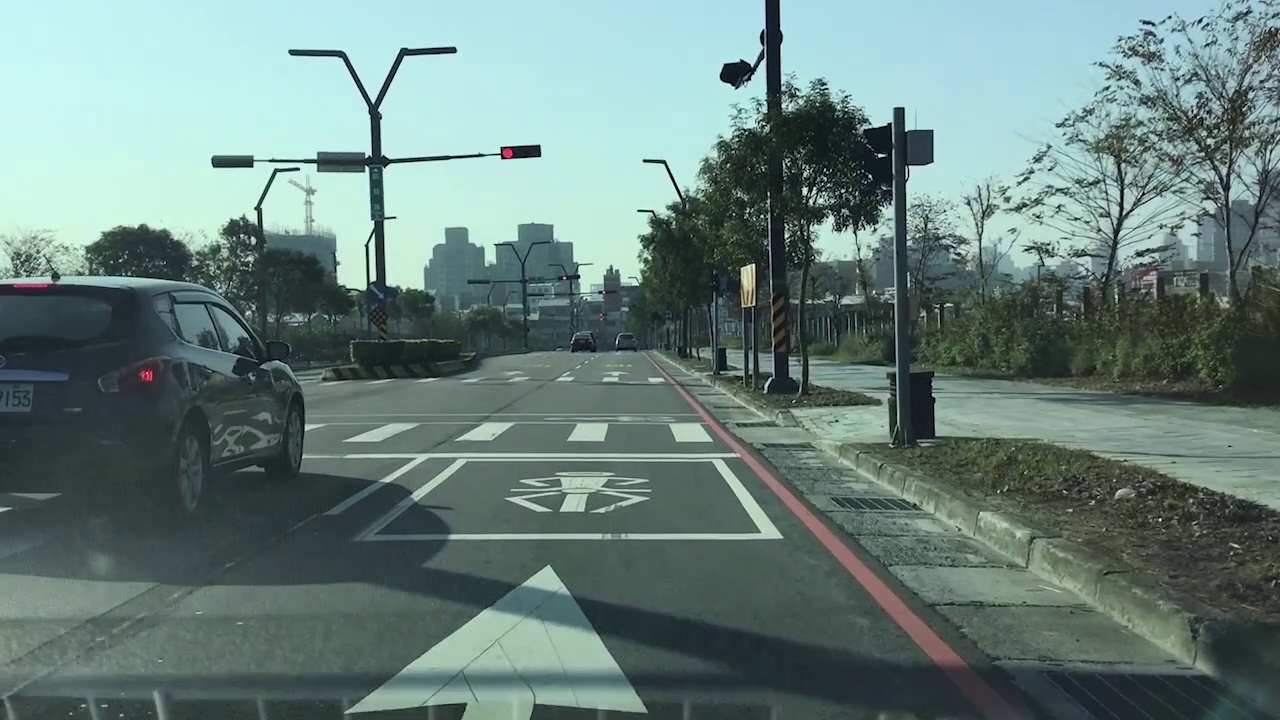Pedestrian_Crossing: (312, 415, 708, 441), (432, 366, 677, 378)
